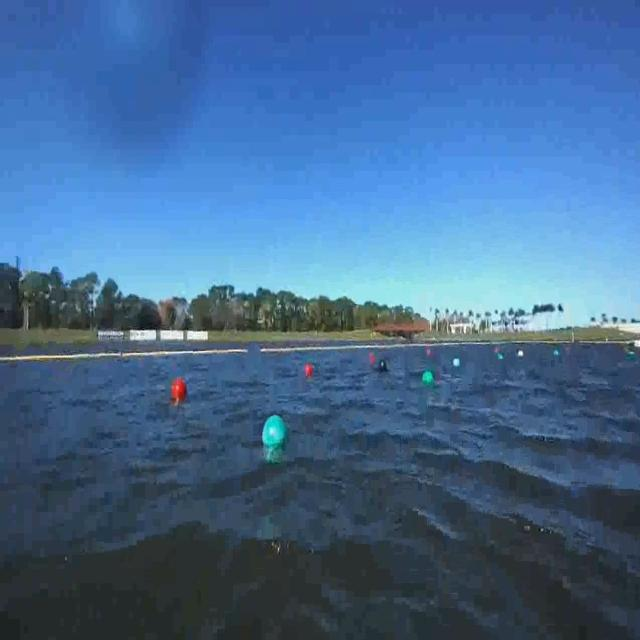green-buoy: (264, 418, 289, 450), (422, 371, 434, 386)
red-buoy: (174, 375, 190, 401), (306, 363, 314, 377)
